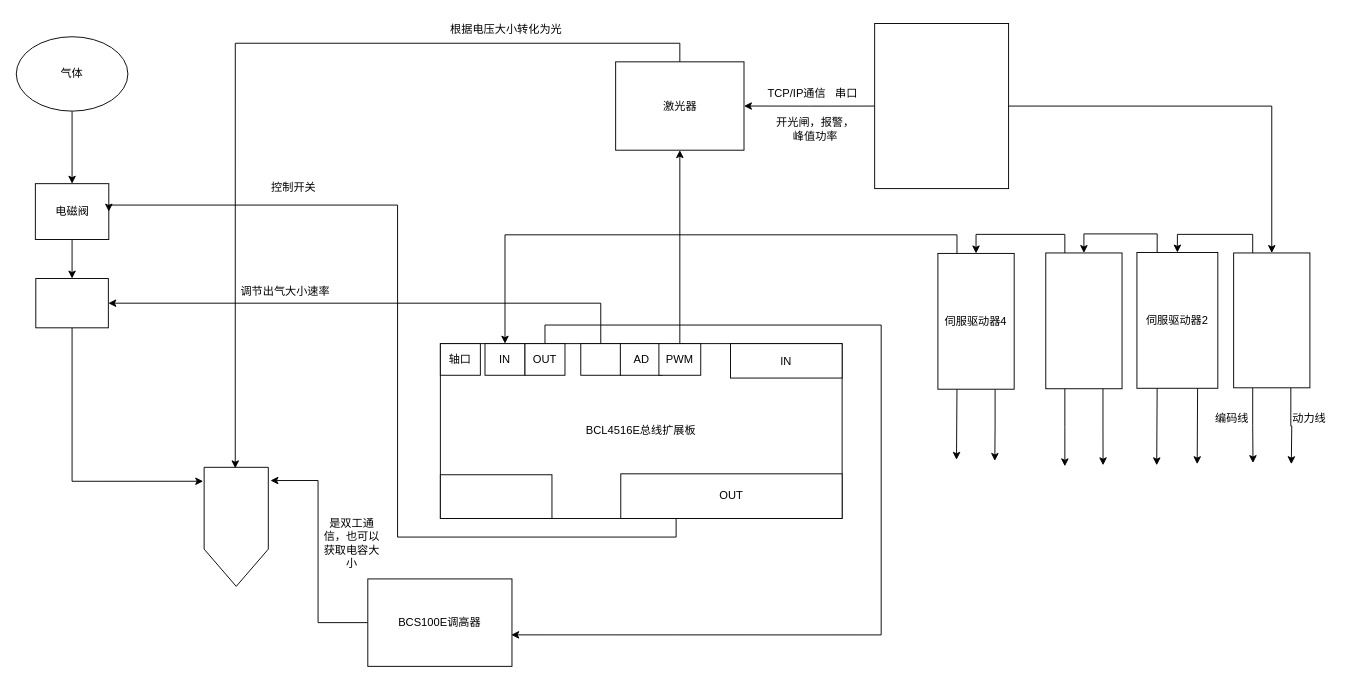
This 1350x683 diagram has some shape labels left out. The shapes that lost their labels are listed below. From the top down, each one's centre as x and y in pixels, then its label:
At (941,106): "运动控制卡".
At (71,303): "比例阀".
At (1083,320): "伺服驱动器3".
At (1271,320): "伺服驱动器1".
At (600,359): "DA".
At (495,496): "限位信号".
At (235,526): "切割头".
